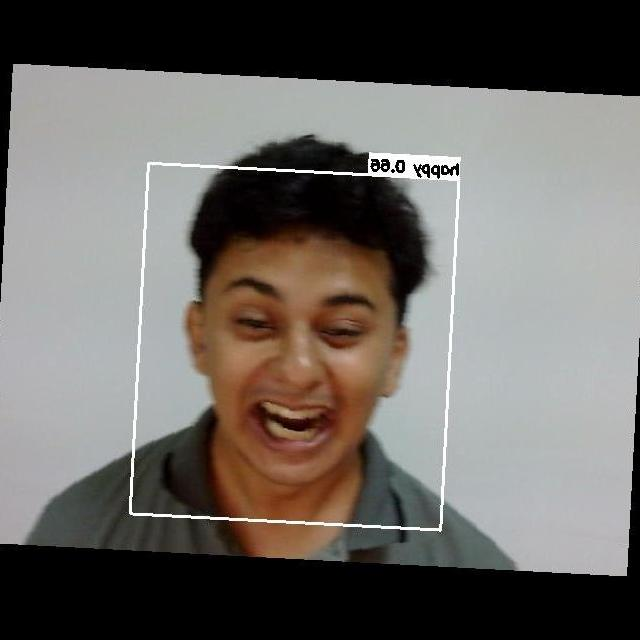Surprised: (199, 241, 394, 465)
